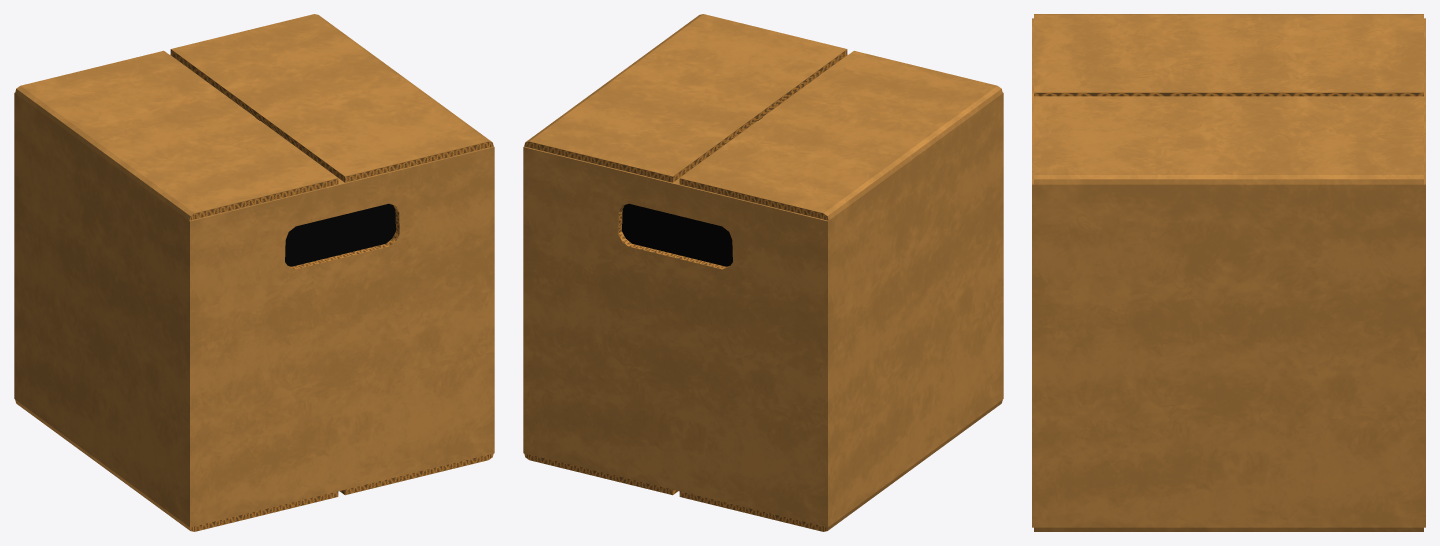
File: CardboardBox.glb
3 views of the same model, side by side, from view 1: azimuth 30°, elevation 25°; view 2: azimuth 150°, elevation 25°; view 3: azimuth 270°, elevation 25° (orthographic). The views are drawn at different scales.
Parts seen in each view (by area): view 1: Cube; view 2: Cube; view 3: Cube.
Boxes of the visible parts, x1,y1,x2,y2 form: Cube: (14,14,494,531); Cube: (523,14,1003,531); Cube: (1032,14,1425,531).
Size of the model in its own units: 2 by 2 by 2.
1 material, 1 textured.
